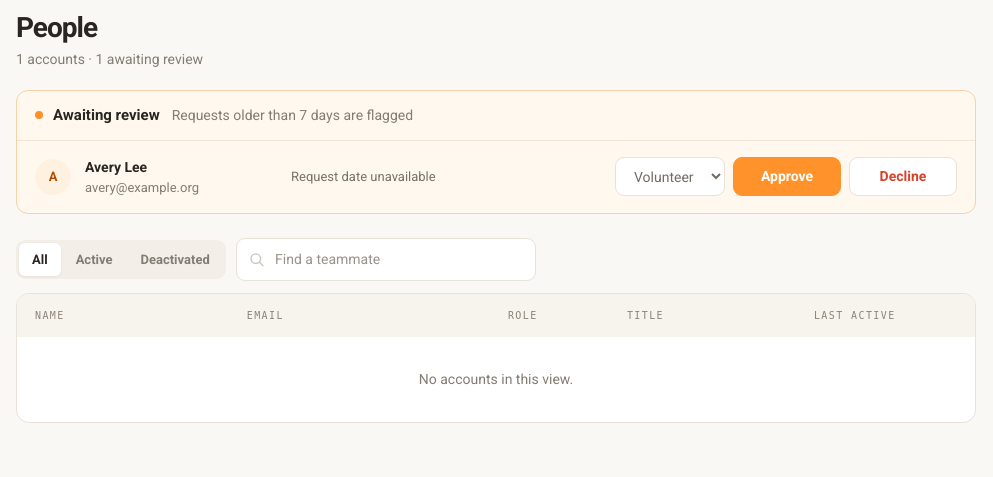
failed review stays available with clear error feedback and can retry
Click the button with class "decline-button". click: (903, 177)
box: [849,157,957,196]
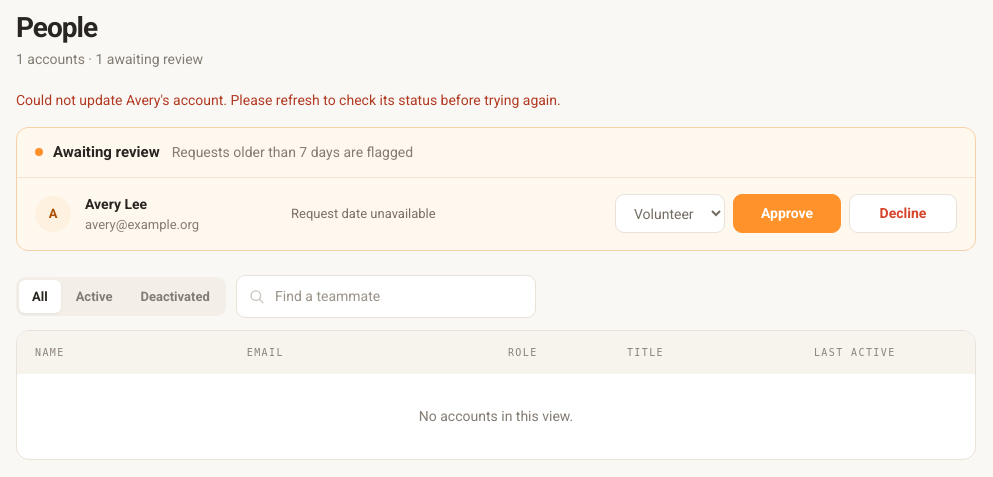
Now the message shows "Could not update", box [16,92,561,108]
Click the button with class "decline-button". click: (903, 214)
box: [849,194,957,233]
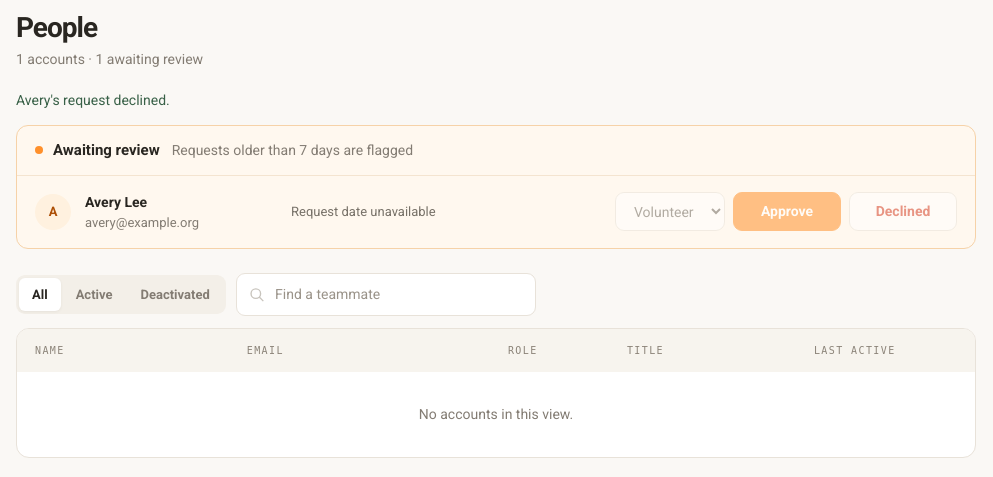
Now the button with class "decline-button" reads "Declined", box [849,192,957,231]
